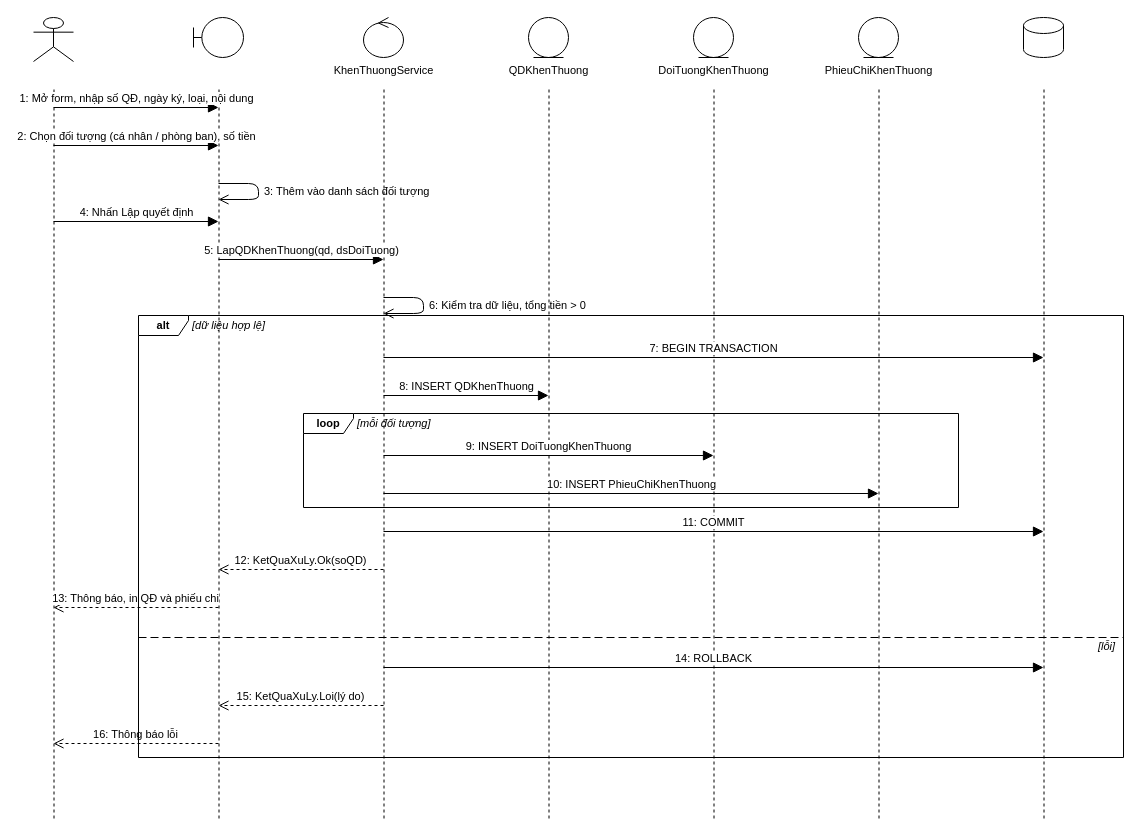
This 1142x839 diagram has some shape labels left out. Here are the shapes that lost their labels. From the top down, the centre of each, then its label:
At [53,39]: "Giám đốc".
At [218,37]: "FrmQDKhenThuong".
At [1043,37]: "SQL Server".
